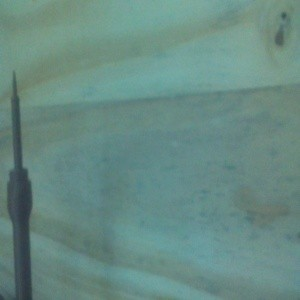solder: (5, 69, 33, 300)
